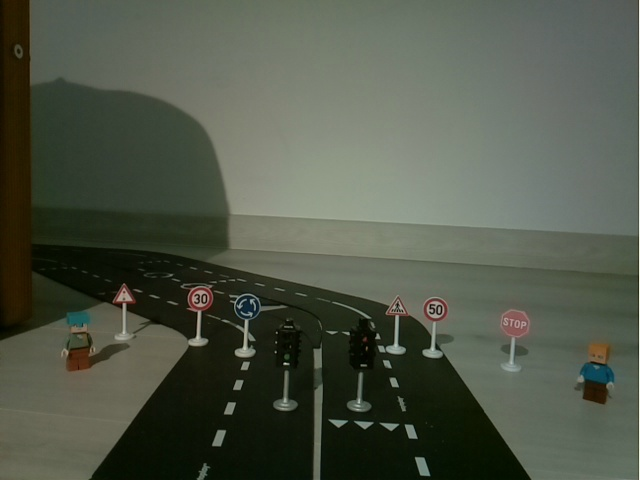green light: (271, 315, 304, 415)
limit 30: (181, 283, 216, 350)
limit 50: (417, 292, 454, 364)
pedestrian sign: (385, 293, 411, 358)
person: (56, 304, 102, 378), (573, 338, 619, 411)
red light: (345, 317, 378, 417)
round: (231, 291, 263, 359)
stop: (495, 306, 534, 377)
traffic light sign: (108, 281, 142, 346)
